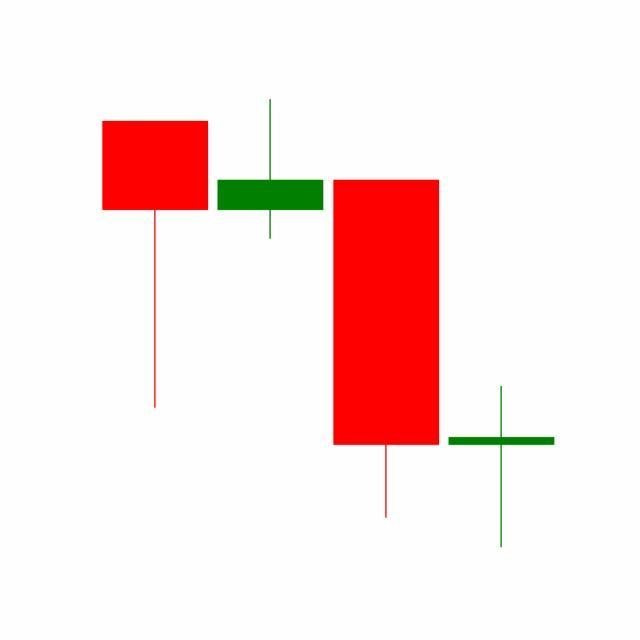Spinning Top: (444, 384, 560, 551)
